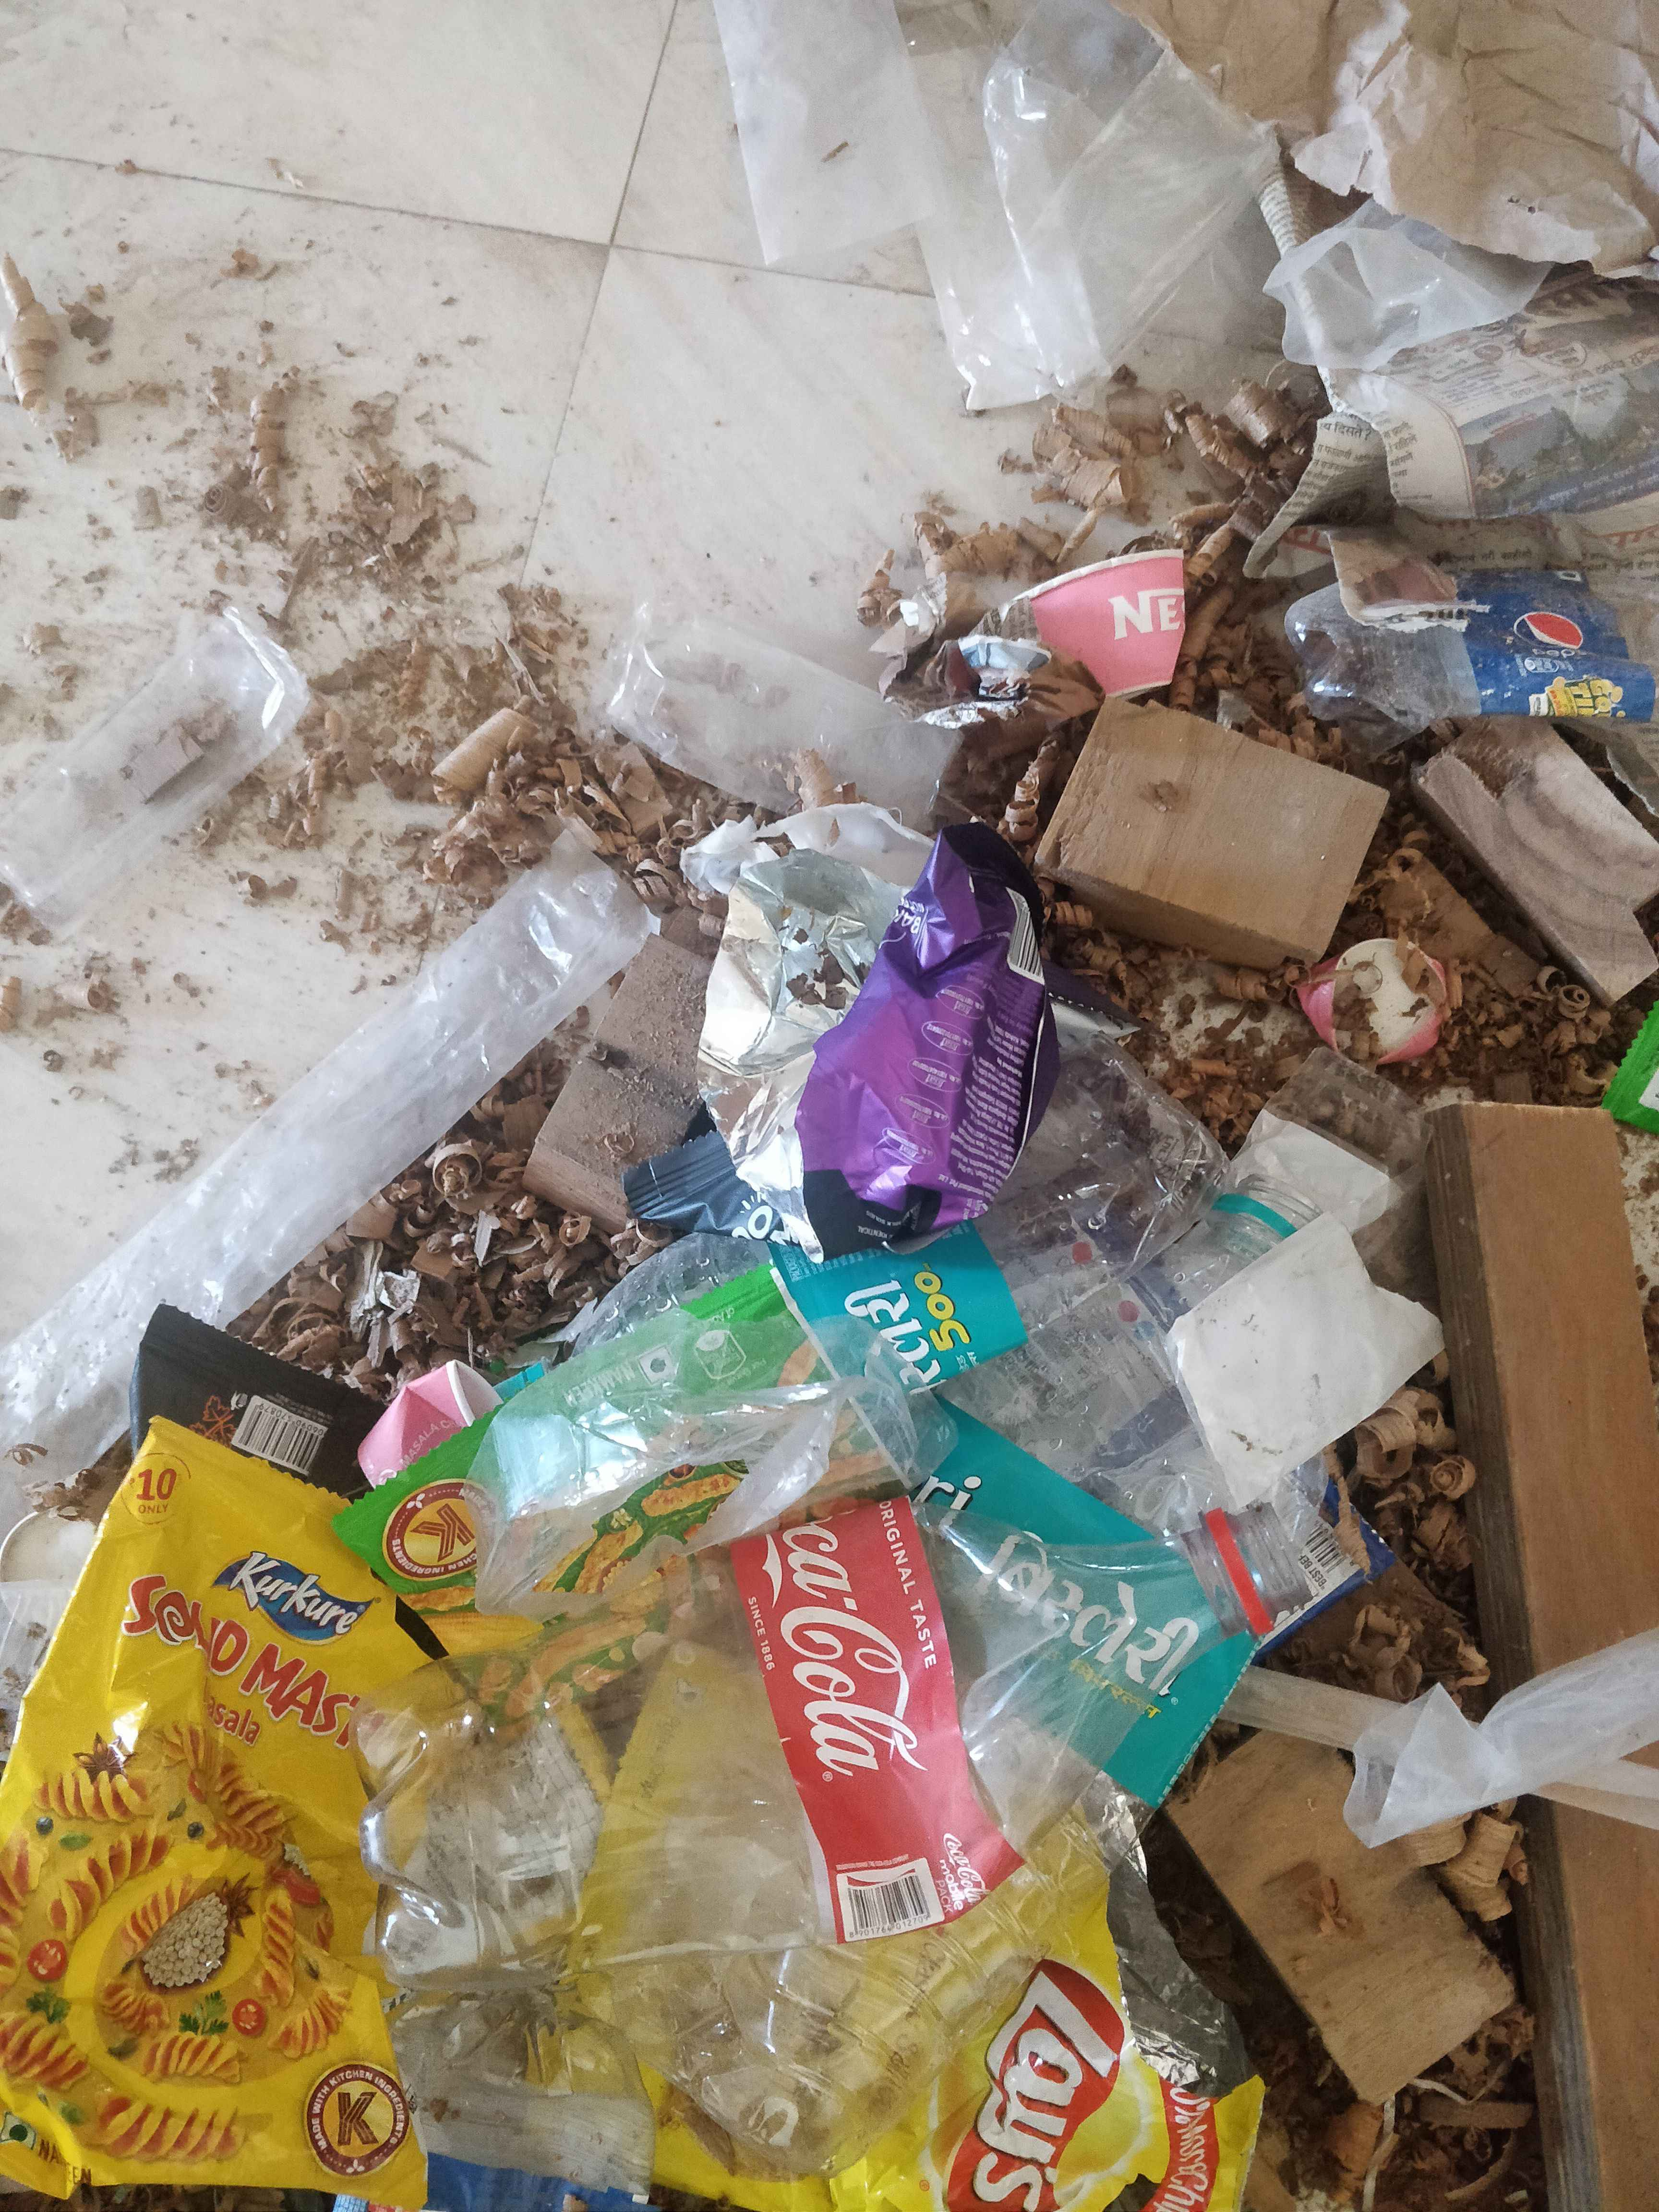Bisleri: (943, 1430, 1244, 1728), (840, 1249, 1014, 1371)
Coca-Cola: (748, 1480, 993, 1879)
Lays: (932, 1940, 1147, 2212)
kurkure: (213, 1519, 383, 1649)
pepsi: (1464, 556, 1642, 709)
